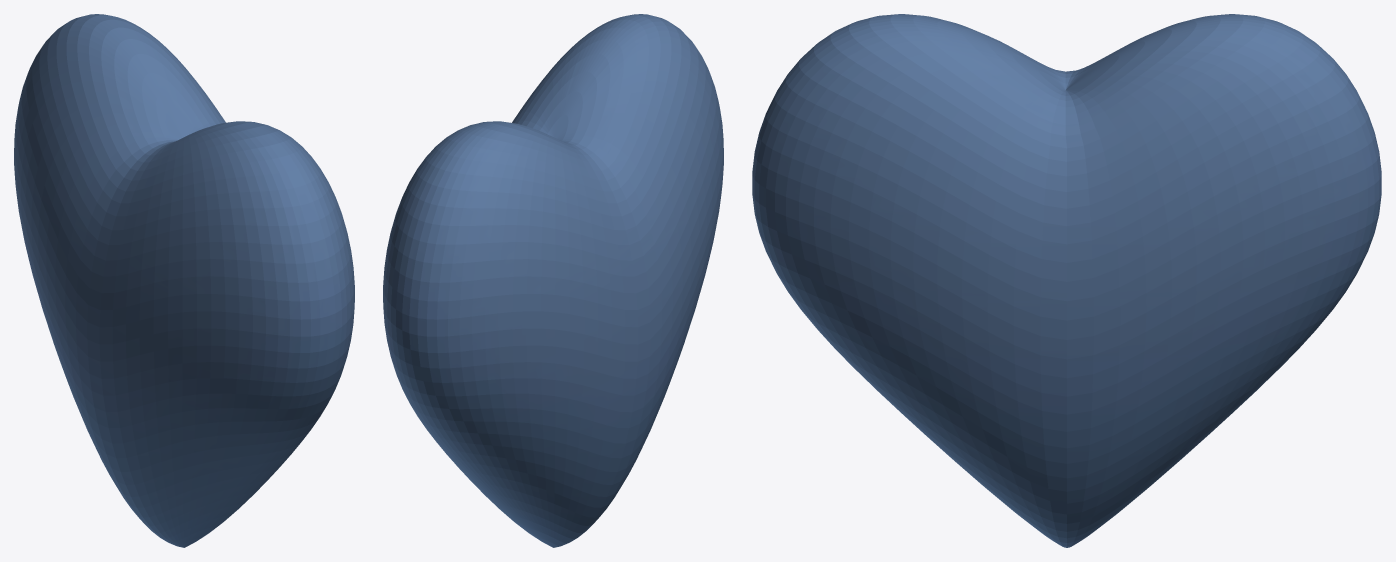
File: Heart.fbx
The picture shows the model from 3 angles, left to right: view 1: azimuth 30°, elevation 25°; view 2: azimuth 150°, elevation 25°; view 3: azimuth 270°, elevation 25°; orthographic projection. The views are drawn at different scales.
Parts seen in each view (by area): view 1: Heart:Heart; view 2: Heart:Heart; view 3: Heart:Heart.
Boxes of the visible parts, x1,y1,x2,y2 form: Heart:Heart: [14, 14, 354, 547]; Heart:Heart: [383, 14, 723, 547]; Heart:Heart: [752, 14, 1381, 547].
Size of the model in its own units: 59.95 by 139 by 150.
Materials: 1 (1 with a texture image).
